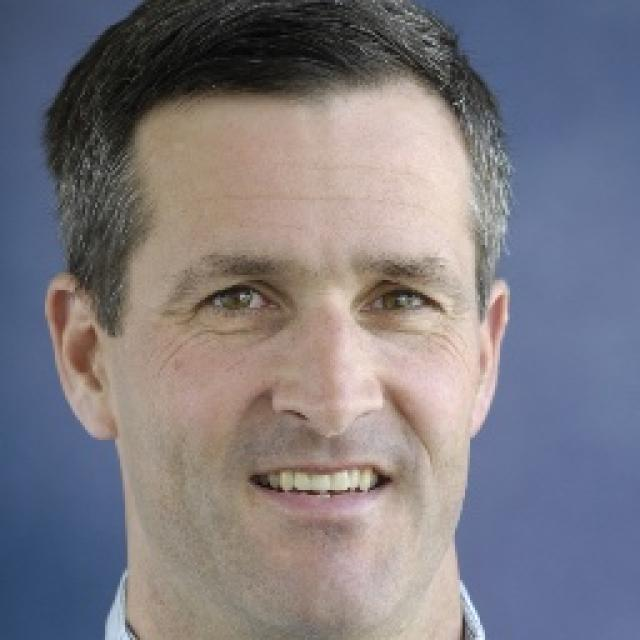earlobe: (76, 385, 118, 442), (466, 387, 493, 438)
eye: (357, 279, 441, 318), (197, 281, 285, 317)
nose: (267, 407, 396, 487)
wholeear: (44, 272, 117, 443), (467, 278, 511, 438)
